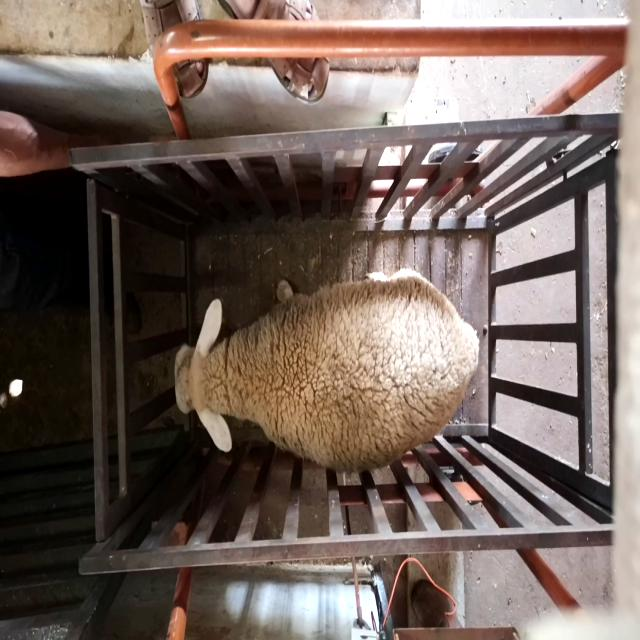sheep: (174, 268, 480, 474)
